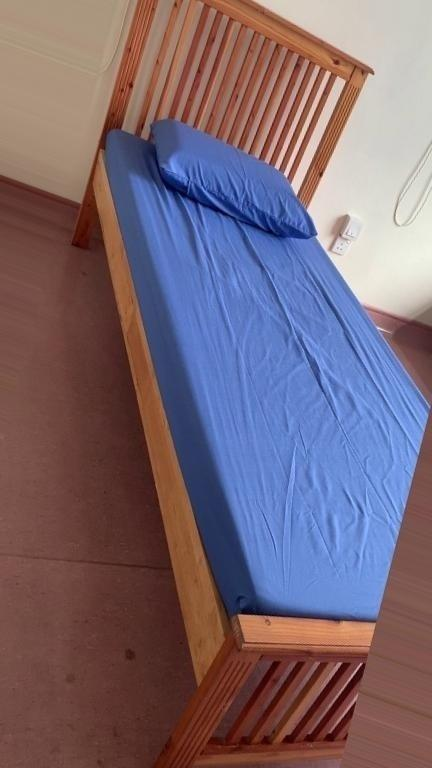bed: (62, 0, 432, 764)
